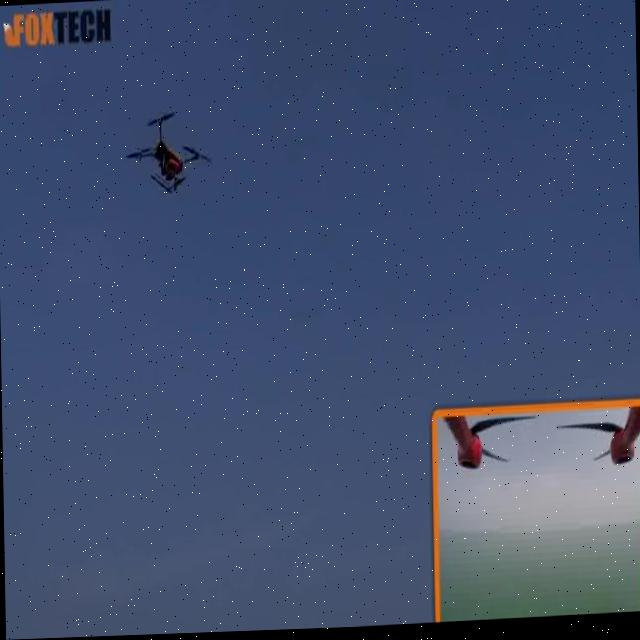drone: (119, 106, 215, 211)
